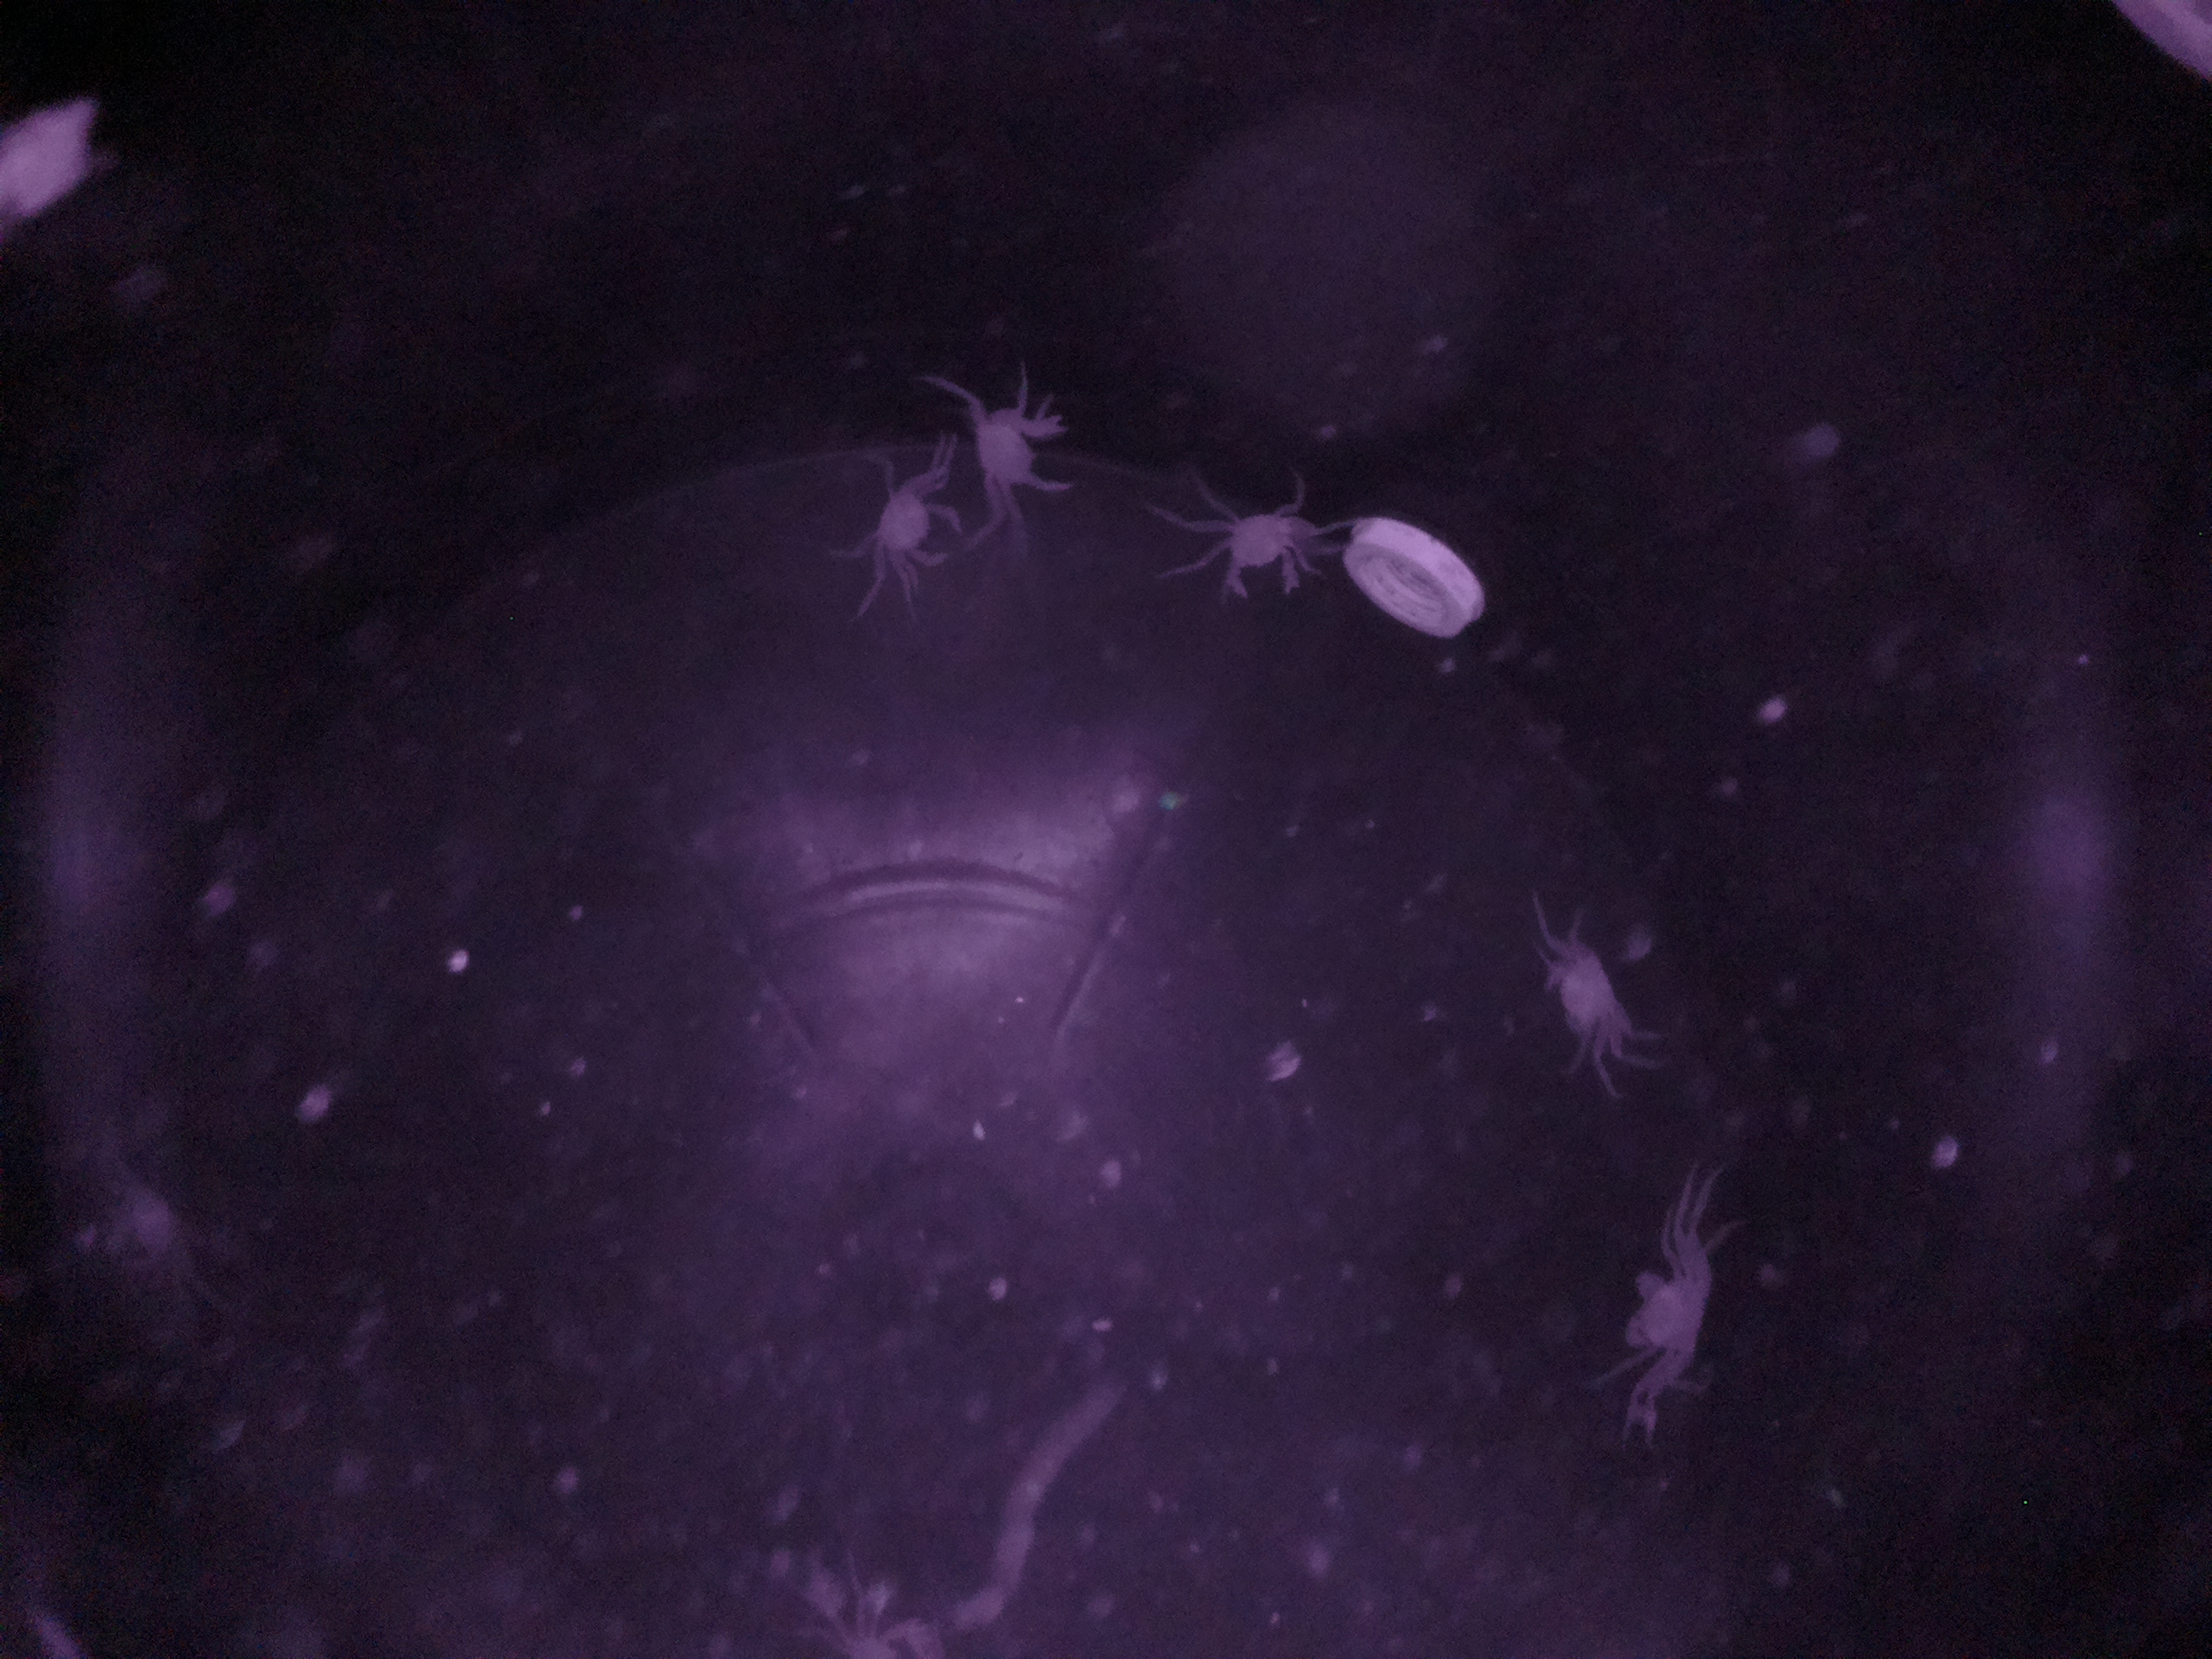Crab: (1602, 1229, 1752, 1398), (1526, 924, 1649, 1075), (1198, 483, 1320, 620), (838, 474, 979, 587)
